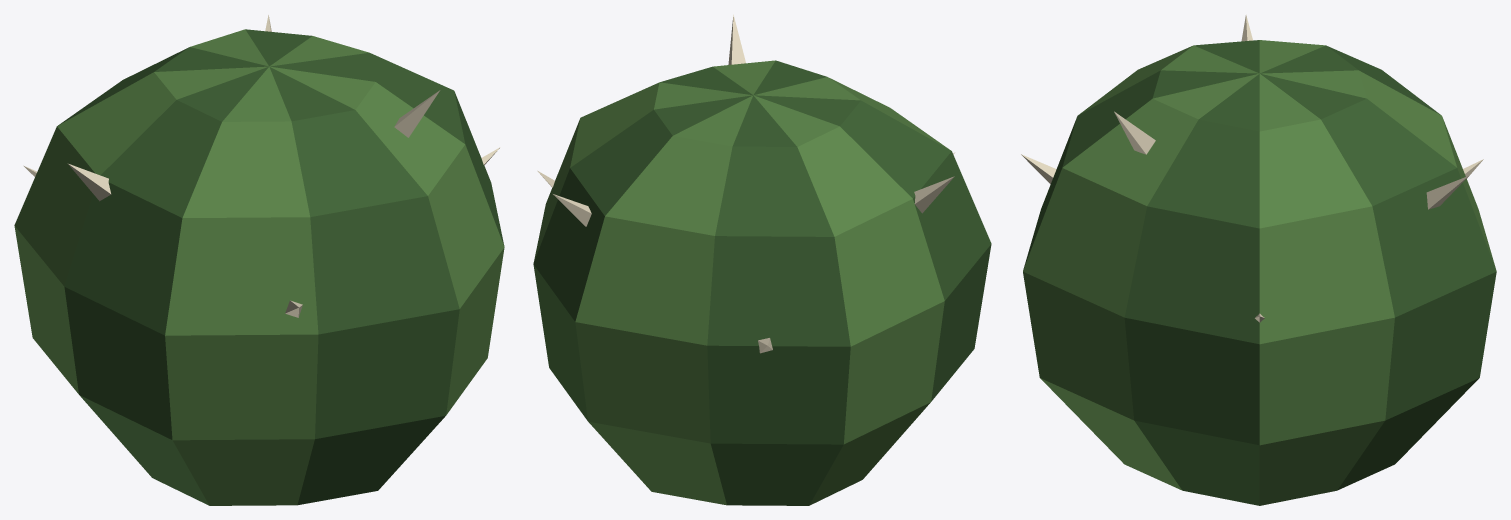
File: cactus_round.glb
3 renders of one model, left to right at view 1: azimuth 30°, elevation 25°; view 2: azimuth 150°, elevation 25°; view 3: azimuth 270°, elevation 25°, orthographic. The views are drawn at different scales.
Parts seen in each view (by area): view 1: cactus_round; view 2: cactus_round; view 3: cactus_round.
Boxes of the visible parts, x1=… form: cactus_round: x1=14, y1=15, x2=504, y2=505; cactus_round: x1=533, y1=14, x2=991, y2=505; cactus_round: x1=1021, y1=14, x2=1496, y2=505.
Size of what is drawn, in the model's own units: 0.8674 by 0.7359 by 0.8354.
Materials: 1 (1 with a texture image).
